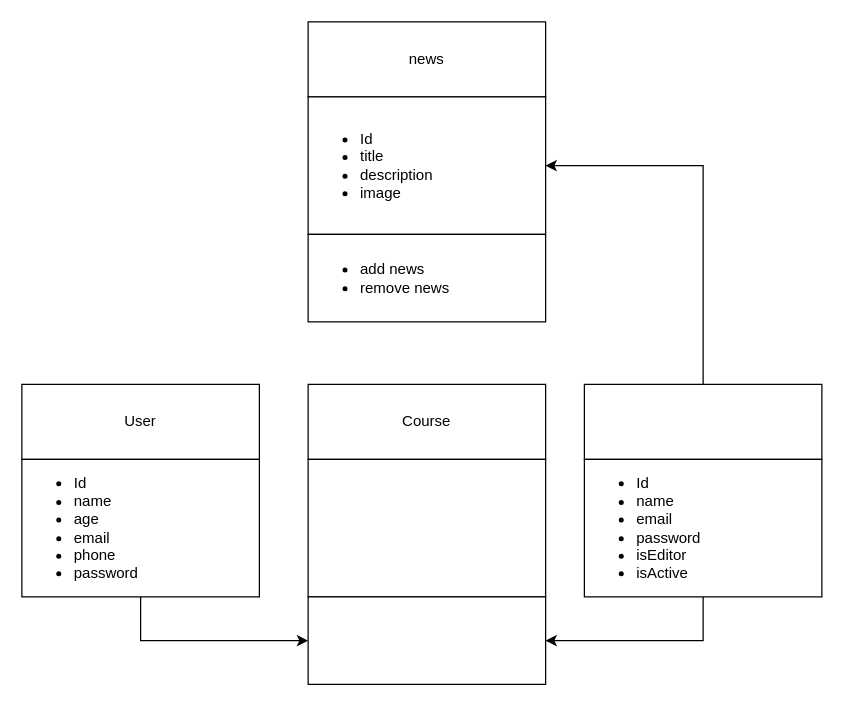
Image size: 844x706. Some labels were removed from this diagram. The shapes that lost their labels are listed below. From the top down, each one's centre as x and y in pixels, then its label:
[702,421]: admin
[426,527]: Id title price description image
[426,640]: add users remove users
